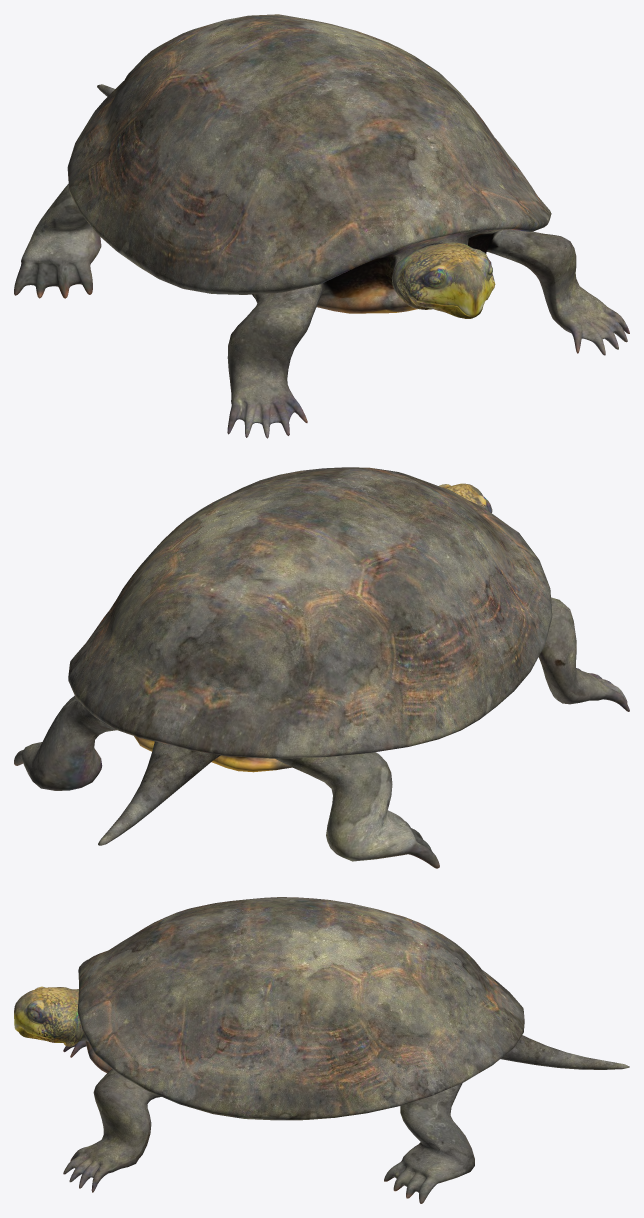
The model's file is TortugaCandado.gltf.
3 renders of one model, top to bottom at view 1: azimuth 30°, elevation 25°; view 2: azimuth 150°, elevation 25°; view 3: azimuth 270°, elevation 25°, orthographic. The views are drawn at different scales.
Visible parts, largest first — view 1: TortugaCandado; view 2: TortugaCandado; view 3: TortugaCandado.
Boxes of the visible parts, x1=… form: TortugaCandado: x1=14, y1=14, x2=629, y2=438; TortugaCandado: x1=14, y1=467, x2=629, y2=868; TortugaCandado: x1=14, y1=897, x2=629, y2=1203.
Bounding box in the file's own units: 1.79 × 1.03 × 2.76.
Materials: 1 (1 with a texture image).
